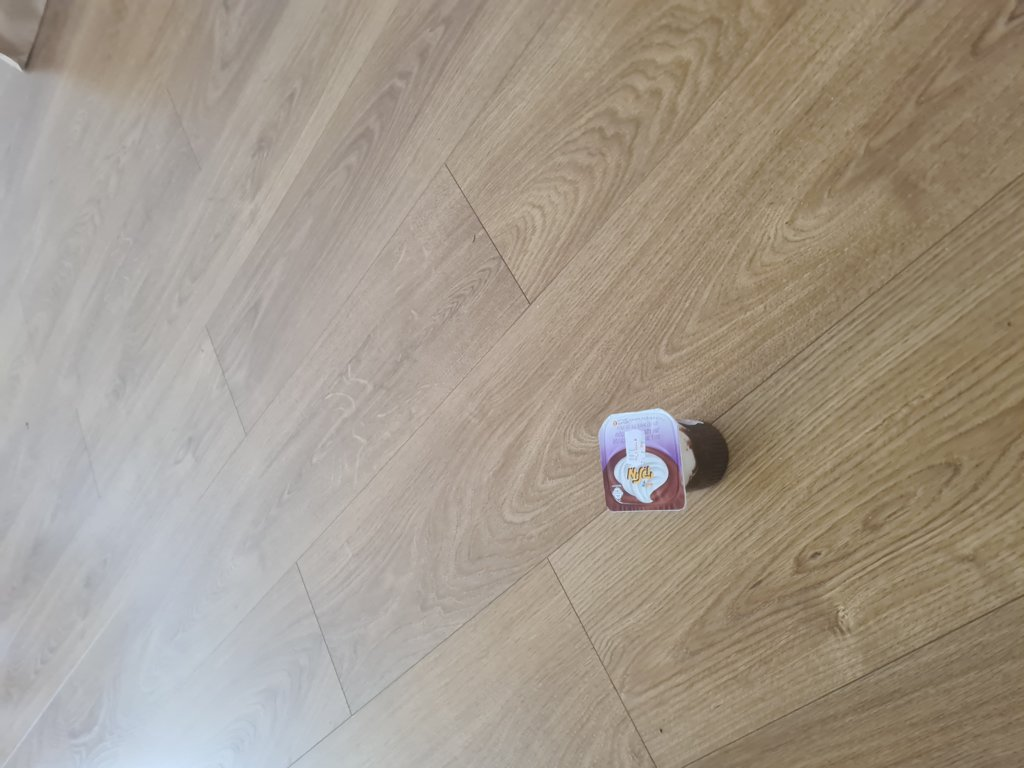milky: (601, 406, 730, 511)
